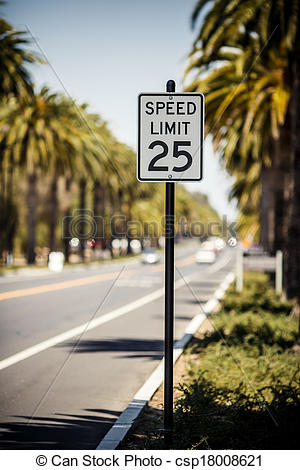speed limit: (132, 77, 213, 195)
